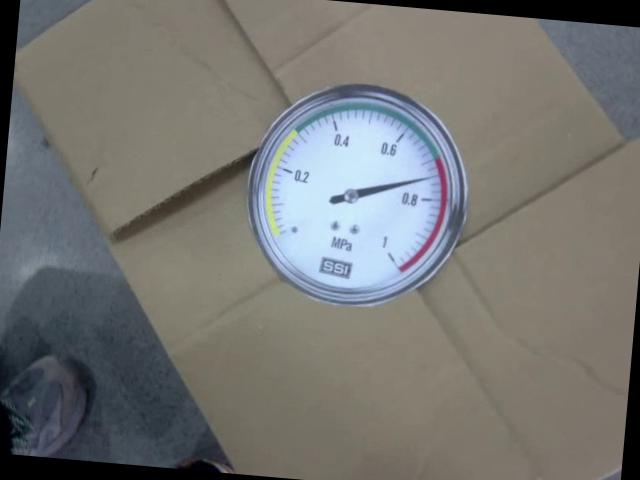Dashboard: (243, 75, 475, 315)
ssi: (314, 252, 353, 280)
